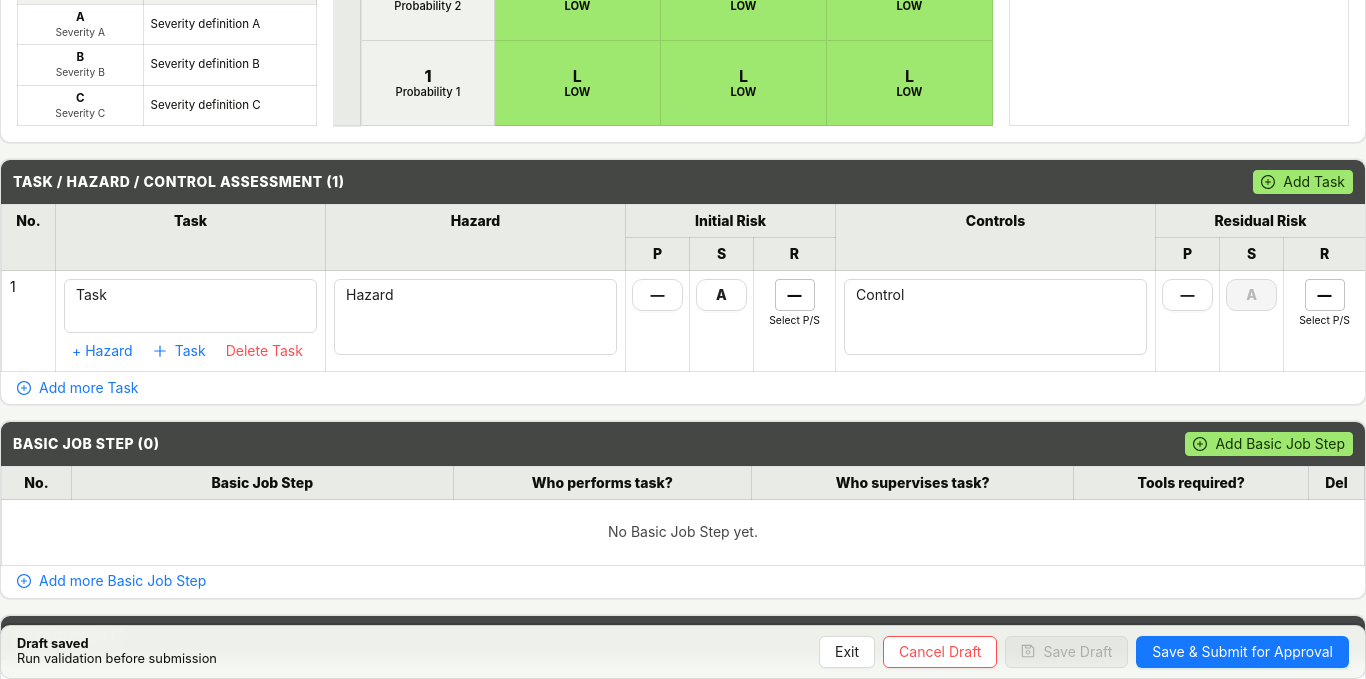
JsaDraftEditor single-page worksheet › selects Initial P/S and Residual P from reference popups and locks Residual S
(page scrolled)
Click the button named "initialRisk probability" at (658, 295), box x1=632 y1=279 x2=683 y2=311
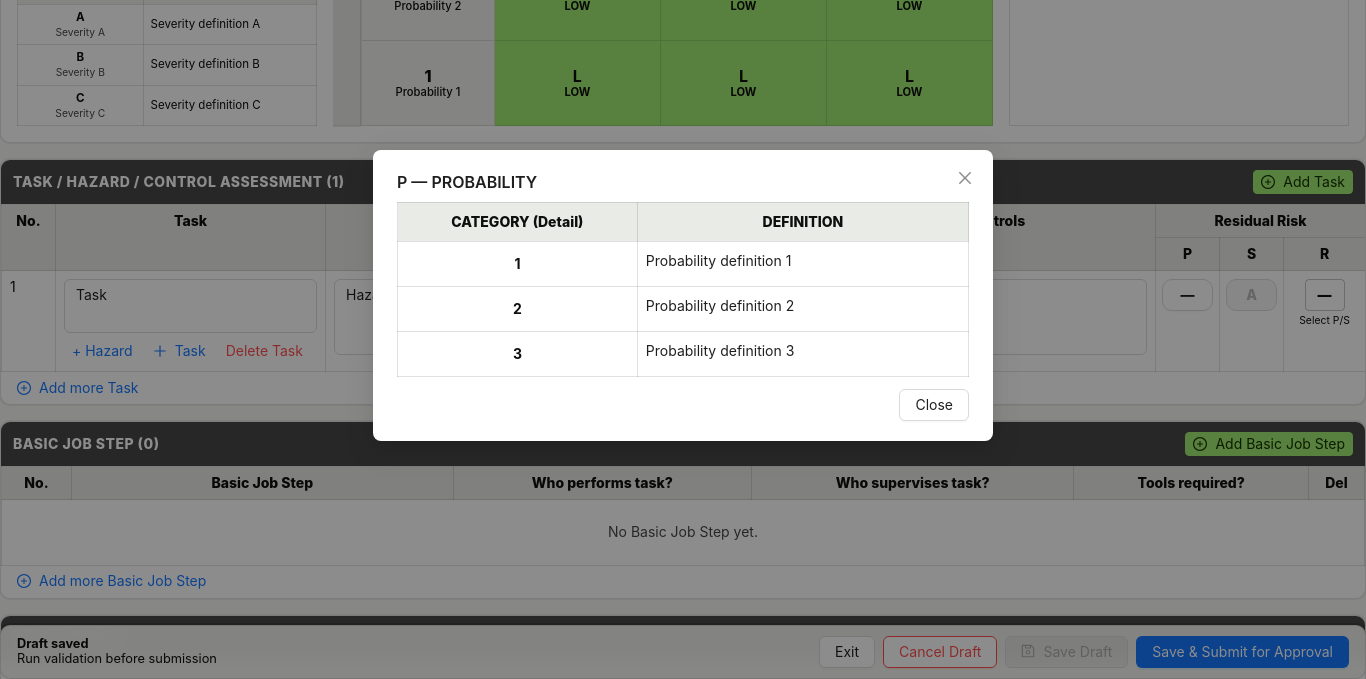
Now the dialog shows "P — PROBABILITY", box x1=397 y1=172 x2=537 y2=192
Click the button named "Select probability 2: Probability 2" at (517, 308), box x1=398 y1=286 x2=637 y2=330
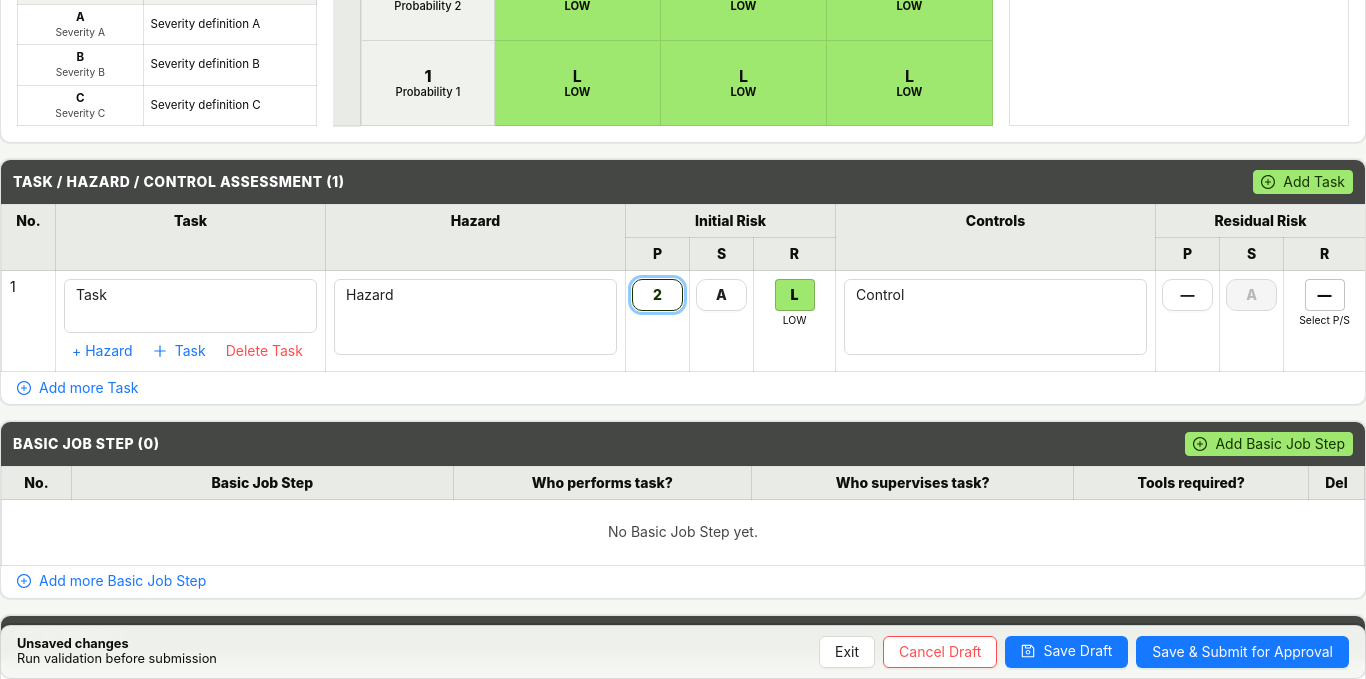
Now the button named "initialRisk probability" reads "2", box x1=632 y1=279 x2=683 y2=311
Click the button named "initialRisk severity" at (722, 295), box x1=696 y1=279 x2=747 y2=311
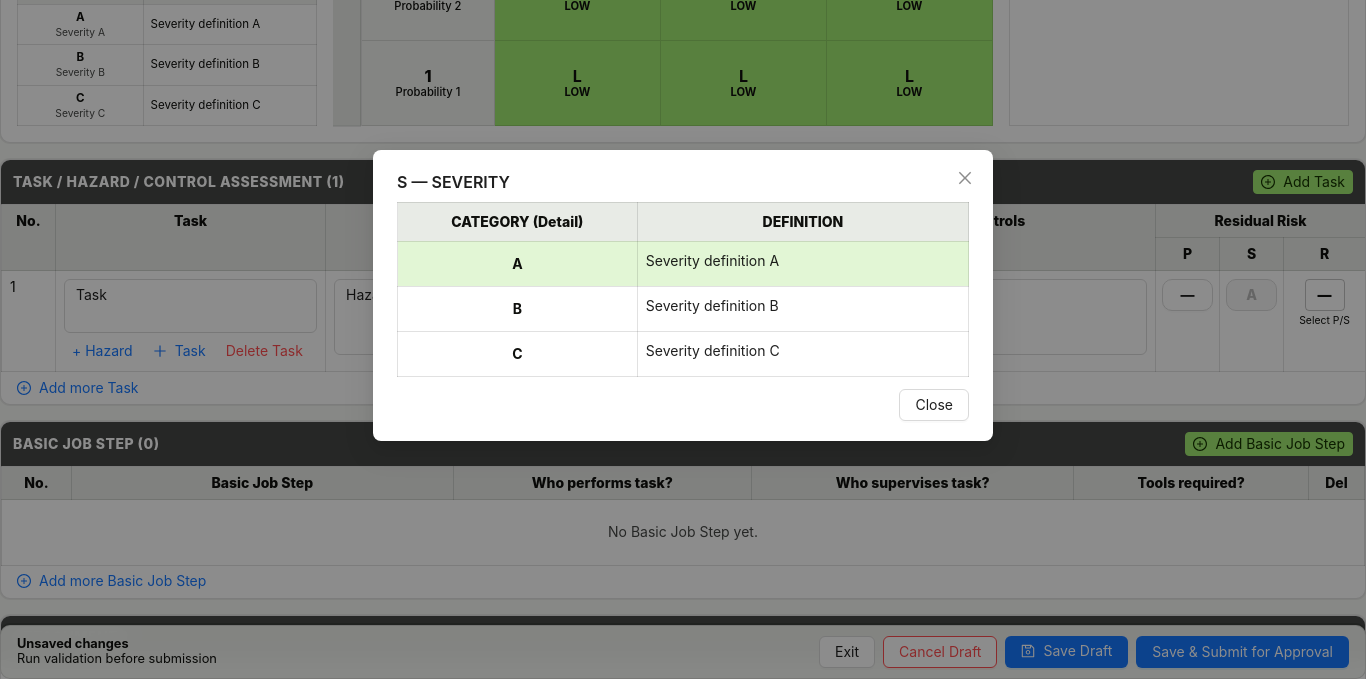
Now the dialog shows "S — SEVERITY", box x1=397 y1=172 x2=510 y2=192
Click the button named "Select severity B: Severity B" at (517, 308), box x1=398 y1=286 x2=637 y2=330
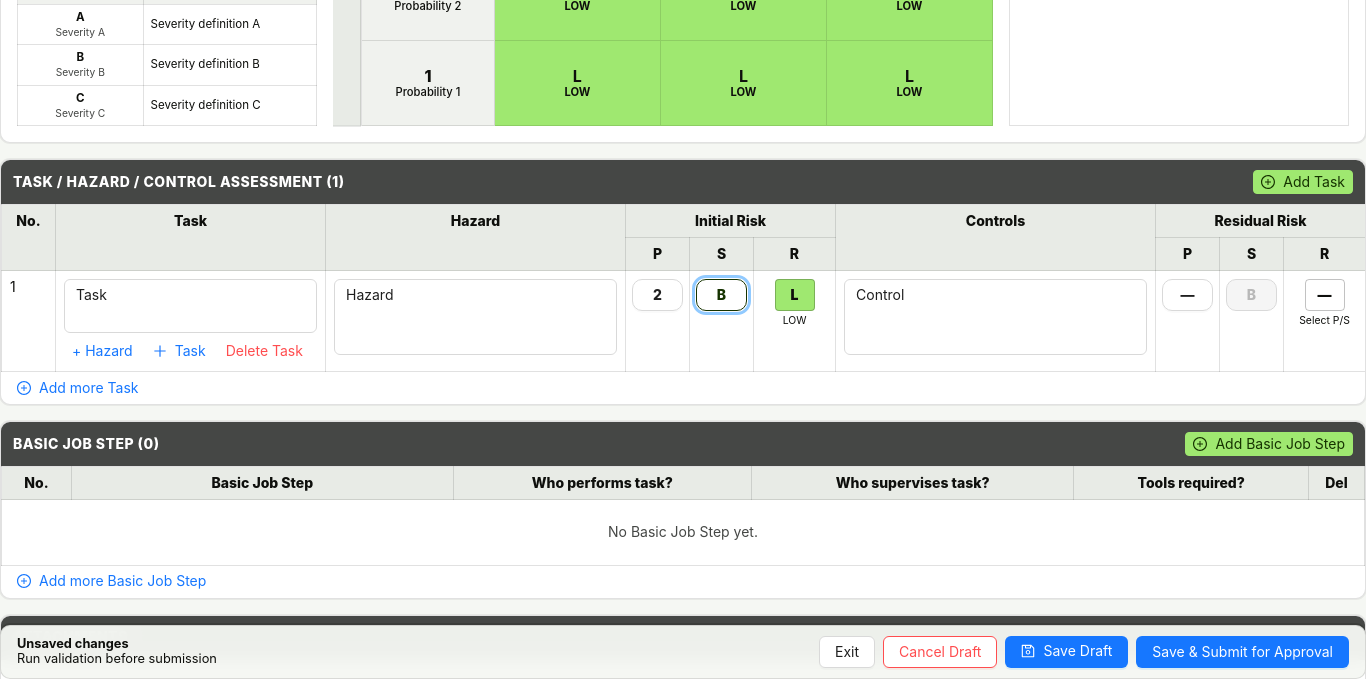
Expected: the button named "residualRisk severity" is disabled, x1=1226 y1=279 x2=1277 y2=311
Now the button named "residualRisk severity" reads "B", box x1=1226 y1=279 x2=1277 y2=311
Click the button named "residualRisk probability" at (1188, 295), box x1=1162 y1=279 x2=1213 y2=311
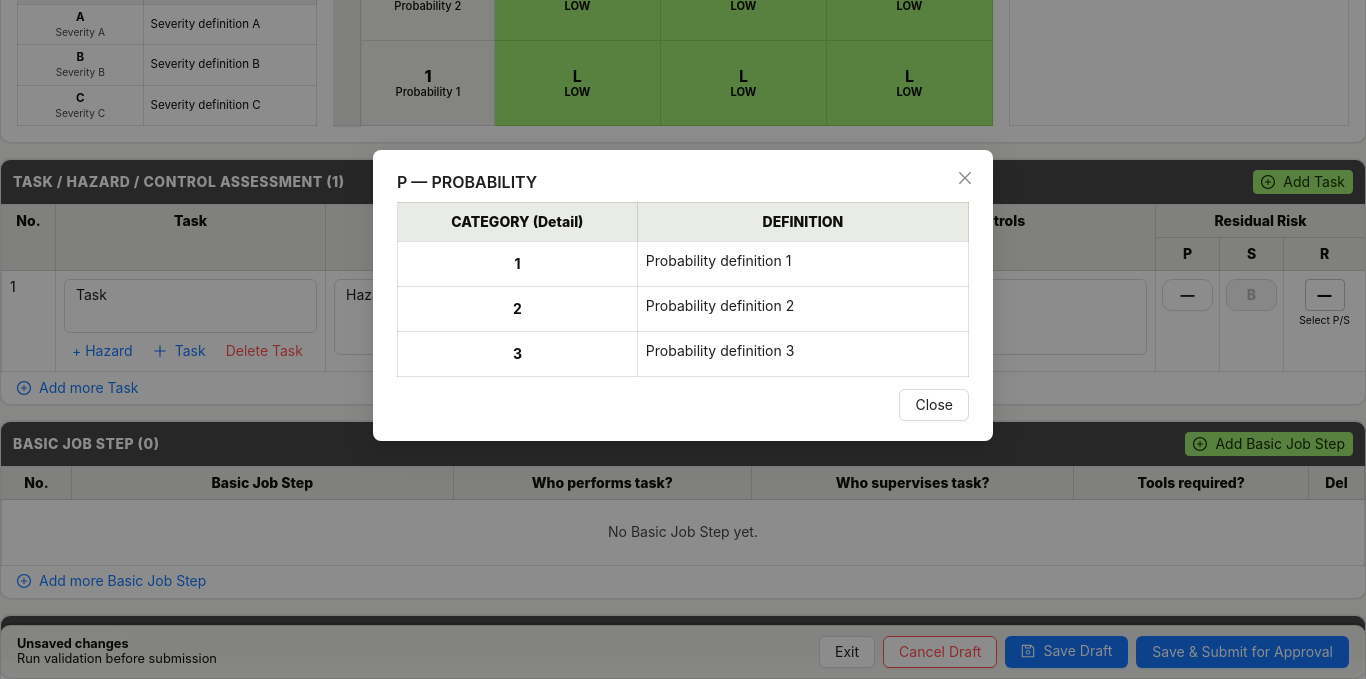
Now the dialog shows "P — PROBABILITY", box x1=397 y1=172 x2=537 y2=192
Click the button named "Select probability 3: Probability 3" at (517, 354), box x1=398 y1=332 x2=637 y2=376
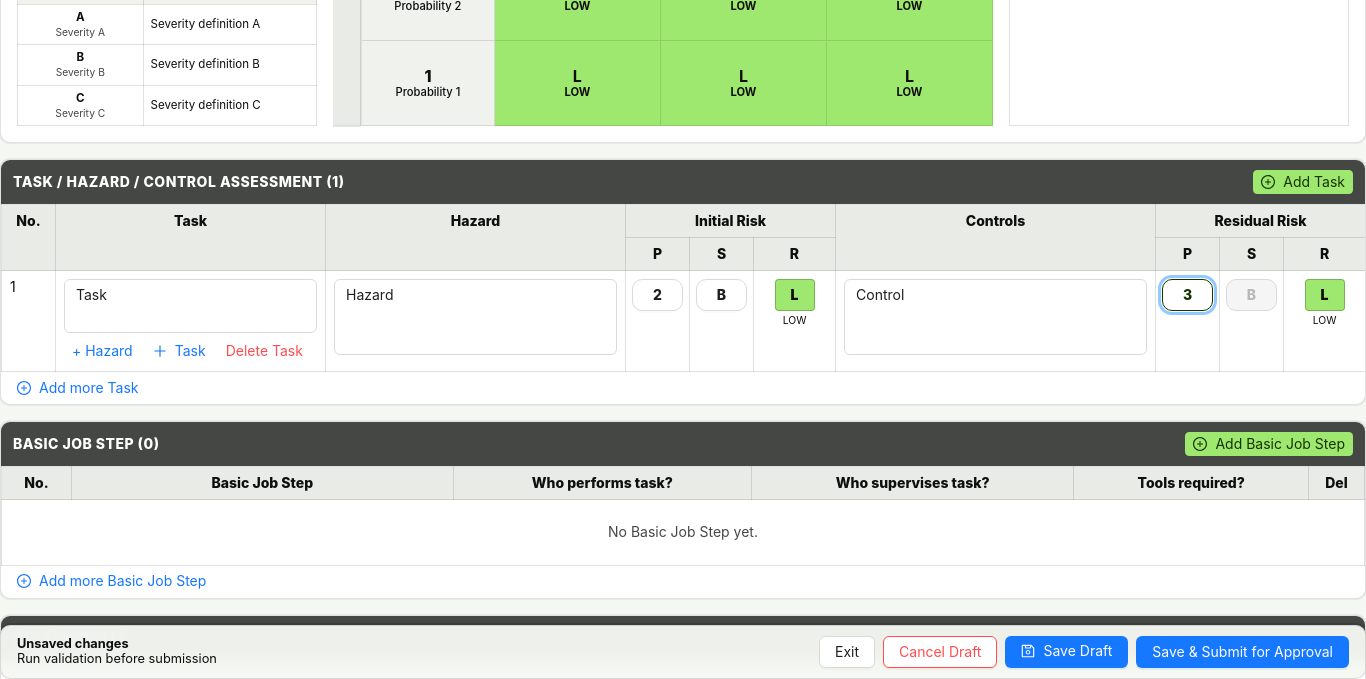
Now the button named "residualRisk probability" reads "3", box x1=1162 y1=279 x2=1213 y2=311
